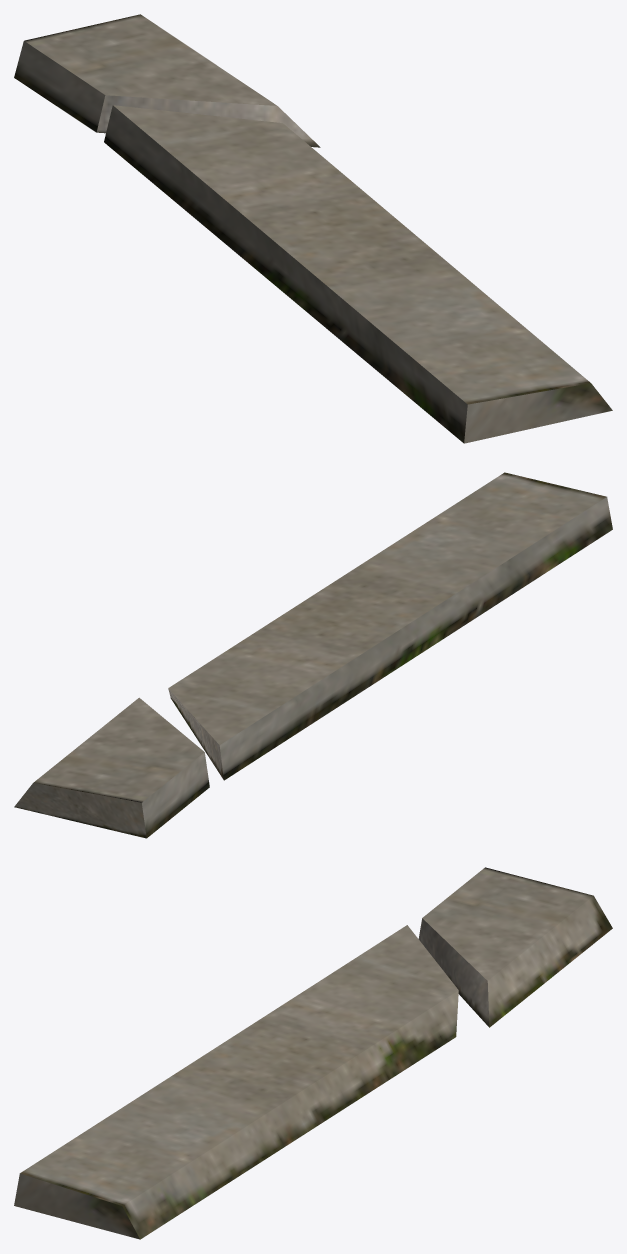
Rendered from bz_road_02.fbx.
3 views of the same model, one above another, from view 1: azimuth 30°, elevation 25°; view 2: azimuth 150°, elevation 25°; view 3: azimuth 330°, elevation 25° (orthographic). The views are drawn at different scales.
Parts seen in each view (by area): view 1: bz_road_02.002, bz_road_02.003; view 2: bz_road_02.002, bz_road_02.003; view 3: bz_road_02.002, bz_road_02.003.
Boxes of the visible parts, bbox=[...] form: bz_road_02.002: bbox=[104, 105, 612, 443]; bz_road_02.003: bbox=[14, 14, 320, 147]; bz_road_02.002: bbox=[168, 472, 612, 780]; bz_road_02.003: bbox=[14, 697, 209, 838]; bz_road_02.002: bbox=[14, 925, 458, 1239]; bz_road_02.003: bbox=[418, 867, 612, 1027].
Size of what is drawn, in the model's own units: 27.86 by 5 by 121.
